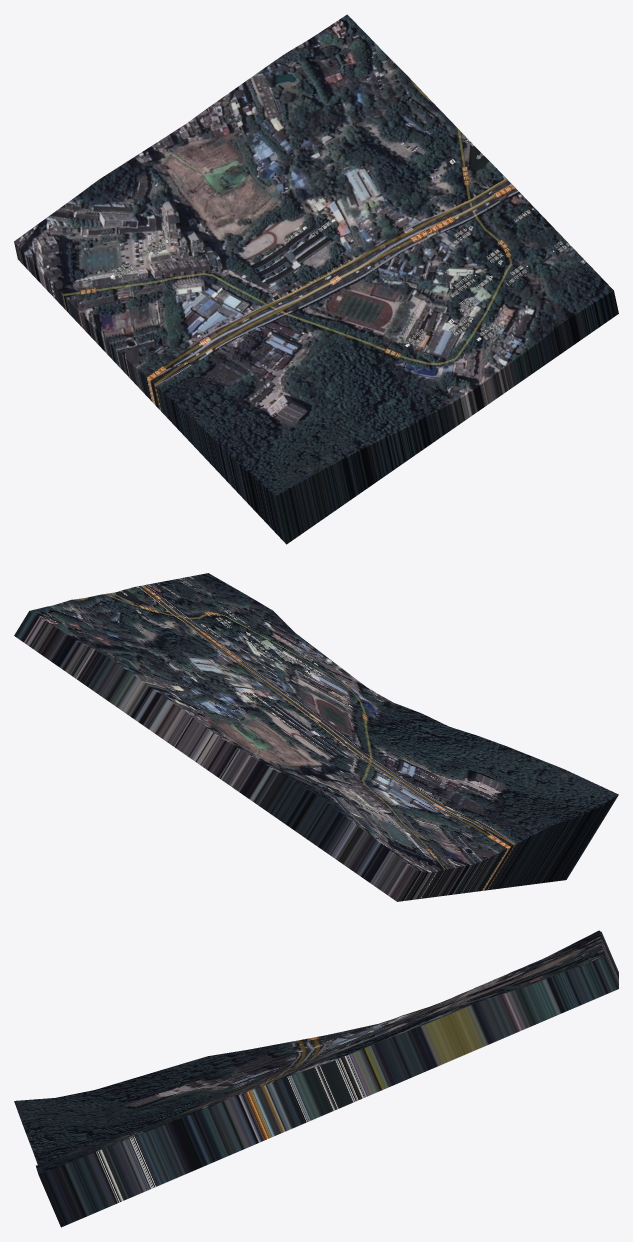
3 views of the same model, one above another, from view 1: azimuth 30°, elevation 25°; view 2: azimuth 150°, elevation 25°; view 3: azimuth 270°, elevation 25° (orthographic). The views are drawn at different scales.
Visible parts, largest first — view 1: 0_3_17; view 2: 0_3_17; view 3: 0_3_17.
Boxes of the visible parts, x1=… form: 0_3_17: x1=14, y1=14, x2=618, y2=544; 0_3_17: x1=14, y1=573, x2=618, y2=901; 0_3_17: x1=14, y1=930, x2=618, y2=1227.
Size of the model in its own units: 608 by 457 by 588.
Materials: 1 (1 with a texture image).
